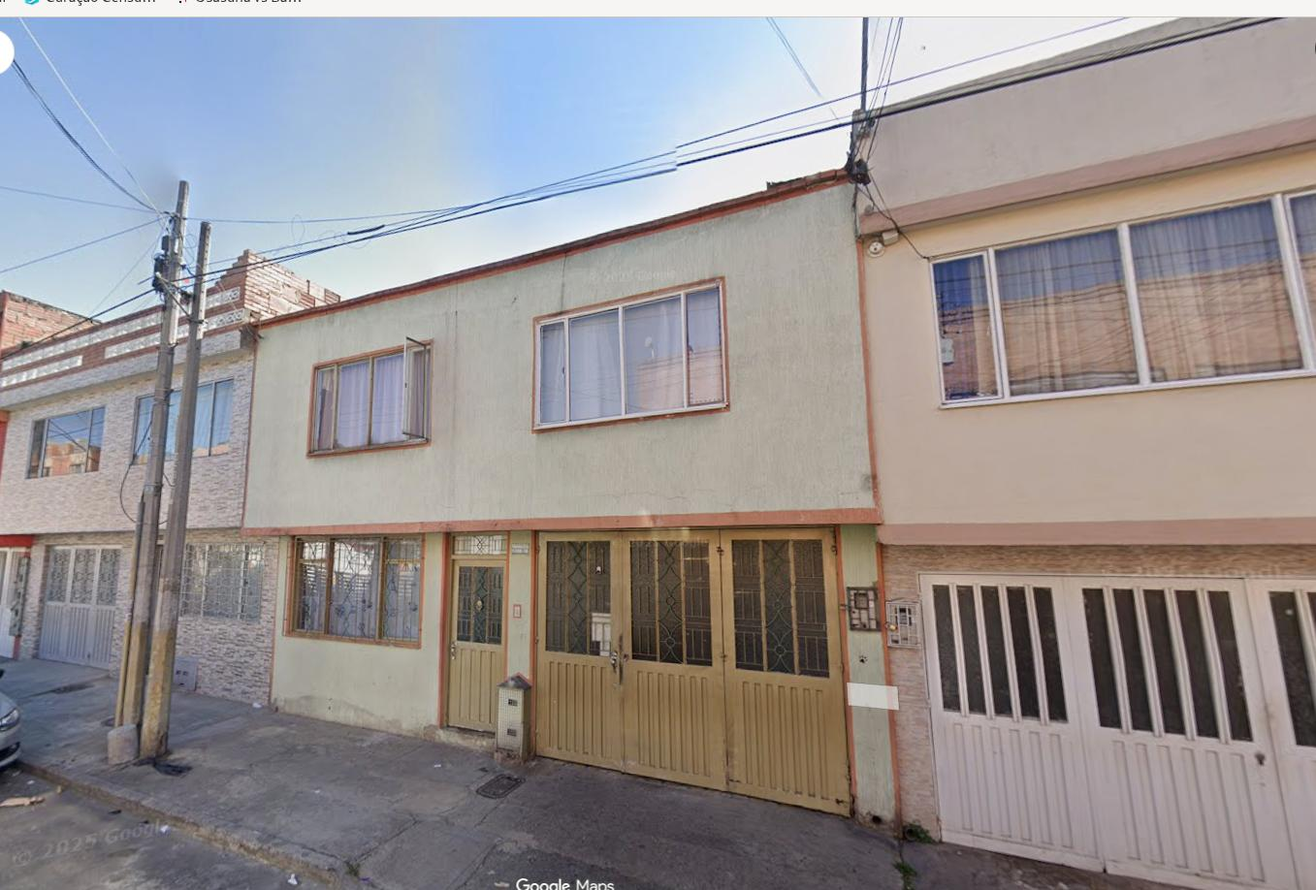casa: (243, 172, 880, 812), (855, 18, 1315, 889)
poste: (129, 222, 210, 758), (116, 181, 188, 740)
